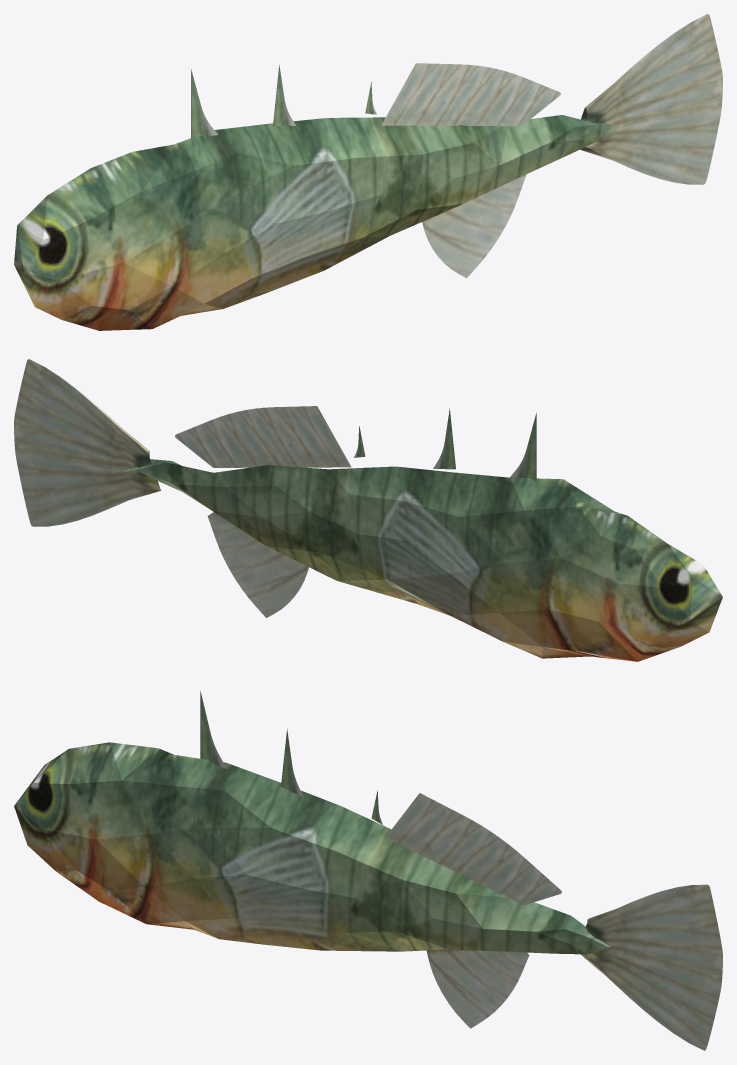
The model's file is three spined stickback.fbx.
The picture shows the model from 3 angles, top to bottom: view 1: azimuth 30°, elevation 25°; view 2: azimuth 150°, elevation 25°; view 3: azimuth 330°, elevation 25°; orthographic projection.
Parts seen in each view (by area): view 1: Line001, Line002, Line009, Line010, Line013, Line016; view 2: Line001, Line002, Line009, Line010, Line013, Line016; view 3: Line001, Line002, Line009, Line010, Line013, Line016.
Boxes of the visible parts, x1,y1,x2,y2 form: Line001: (14, 115, 613, 330); Line002: (580, 14, 722, 184); Line009: (381, 63, 560, 126); Line010: (422, 174, 526, 278); Line013: (191, 69, 217, 137); Line016: (273, 65, 296, 126); Line001: (123, 459, 722, 661); Line002: (14, 359, 160, 526); Line009: (175, 406, 351, 467); Line010: (207, 512, 308, 617); Line013: (510, 412, 536, 481); Line016: (433, 408, 455, 469); Line001: (14, 742, 610, 954); Line002: (581, 884, 722, 1050); Line009: (385, 793, 561, 905); Line010: (426, 949, 529, 1028); Line013: (200, 691, 226, 768); Line016: (281, 728, 303, 797).
Size of the model in its own units: 998 by 372 by 92.2.
Materials: 4 (4 with a texture image).
